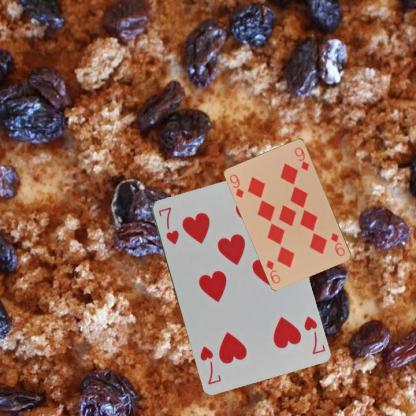7h: (301, 313, 326, 355), (156, 204, 180, 246)
9d: (328, 230, 346, 258), (227, 172, 245, 199)
